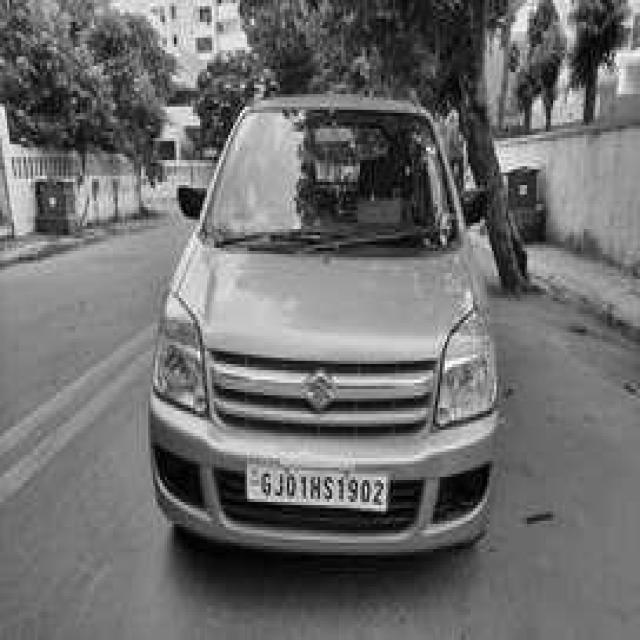car: (139, 79, 499, 580)
license-plate: (245, 468, 398, 508)
